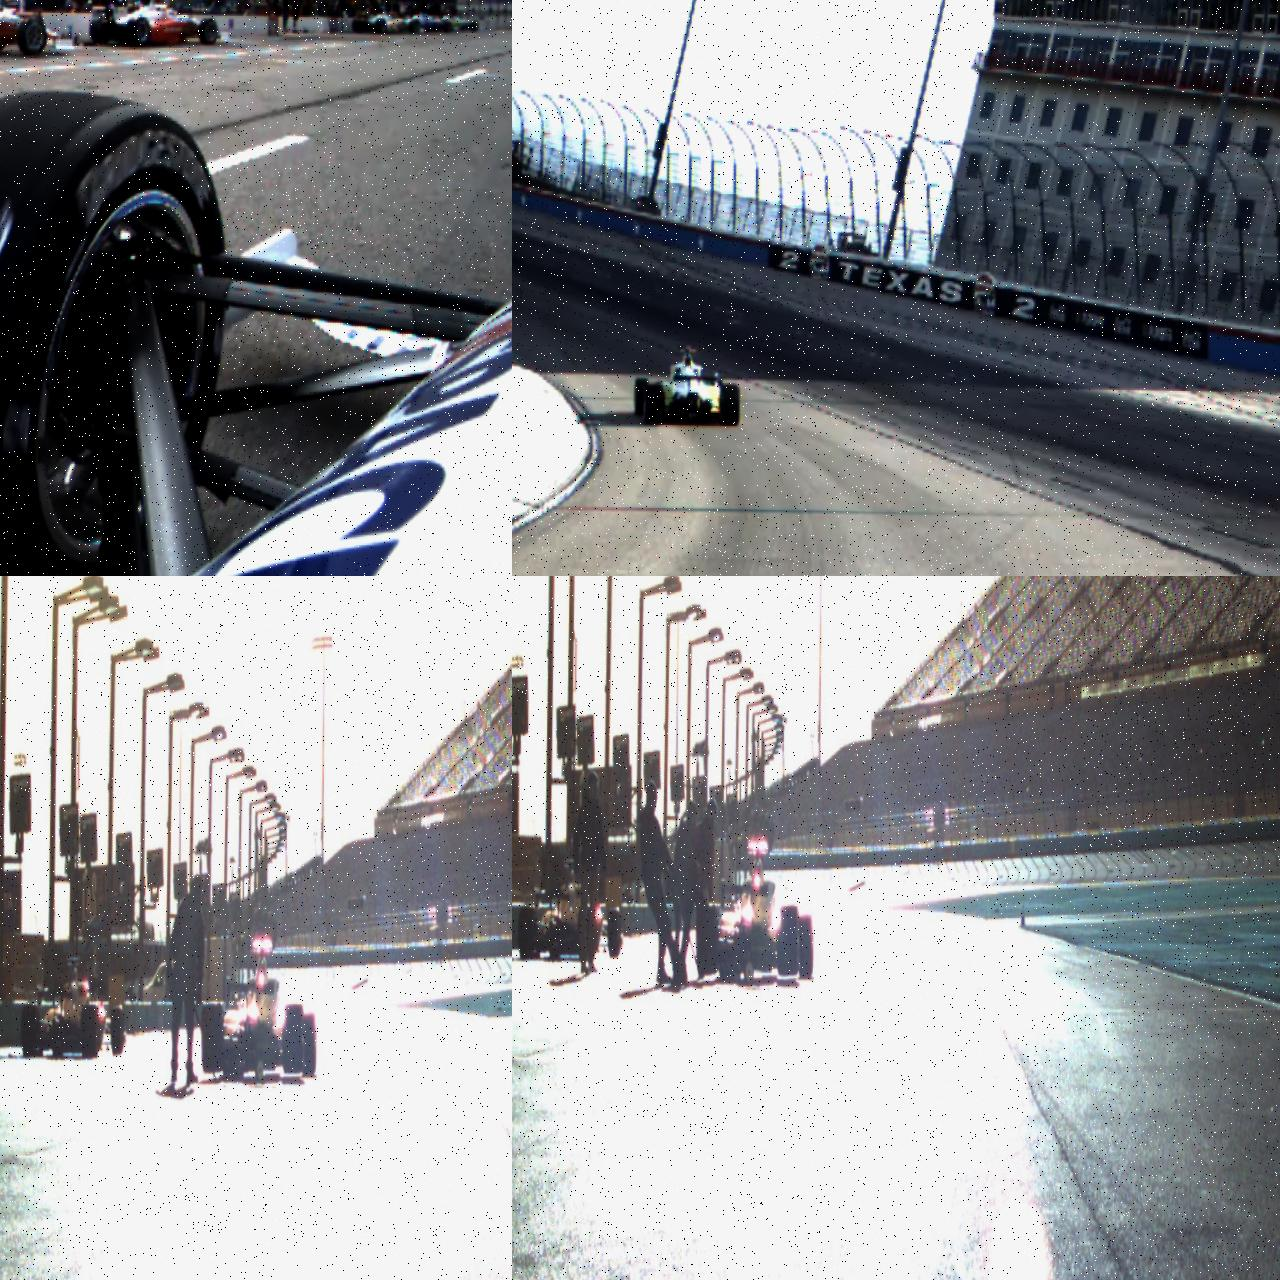AV: (696, 840, 816, 980), (202, 938, 319, 1078), (518, 858, 624, 962), (20, 957, 126, 1059), (635, 345, 741, 428), (89, 0, 230, 48), (0, 0, 76, 62)
Wheel: (0, 87, 230, 576), (202, 1003, 225, 1073), (696, 906, 719, 975), (779, 907, 800, 976), (286, 1005, 304, 1073), (16, 18, 48, 56), (300, 1014, 318, 1076), (80, 1005, 100, 1058), (21, 1004, 40, 1058), (798, 916, 814, 980), (518, 908, 538, 959), (577, 906, 596, 959), (720, 384, 740, 427), (644, 385, 665, 425), (125, 16, 152, 46), (90, 14, 116, 44), (111, 1005, 125, 1055), (608, 907, 622, 957), (634, 378, 649, 416), (198, 18, 218, 45), (409, 21, 420, 34), (376, 19, 386, 33), (470, 20, 479, 32), (444, 22, 452, 34)
